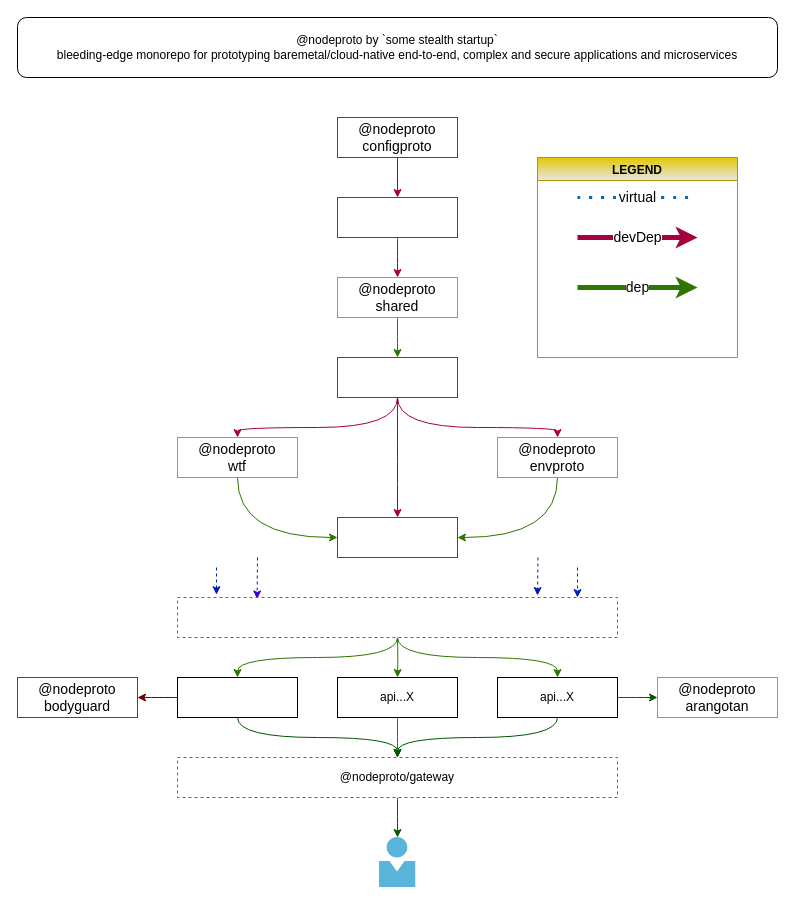
The diagram is 795 pixels wide and 905 high, and some of its shapes have lost their labels. Here are the shapes that lost their labels. From the top down, the box of each, then its label:
(336, 196, 458, 238): @nodeproto testproto
(336, 356, 458, 398): @nodeproto jsync
(336, 516, 458, 558): @nodeproto buildproto
(176, 596, 618, 638): @nodeproto/protopasm virtualization layer
(176, 676, 298, 718): ui...X
